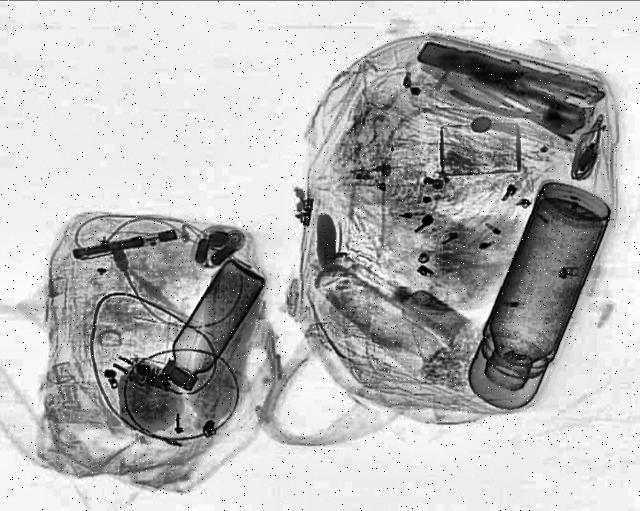Pliers: (430, 38, 596, 122), (444, 70, 588, 146)
